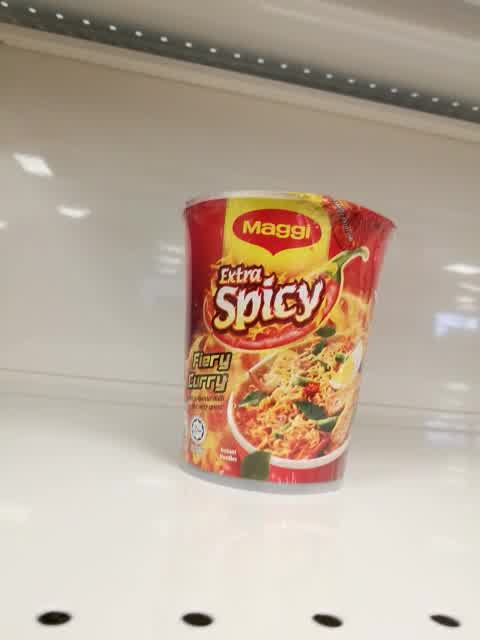maggi: (176, 187, 397, 494)
